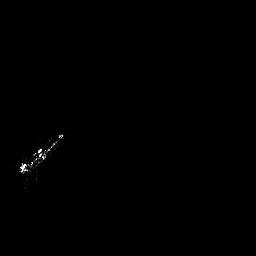ship: (14, 129, 67, 179)
